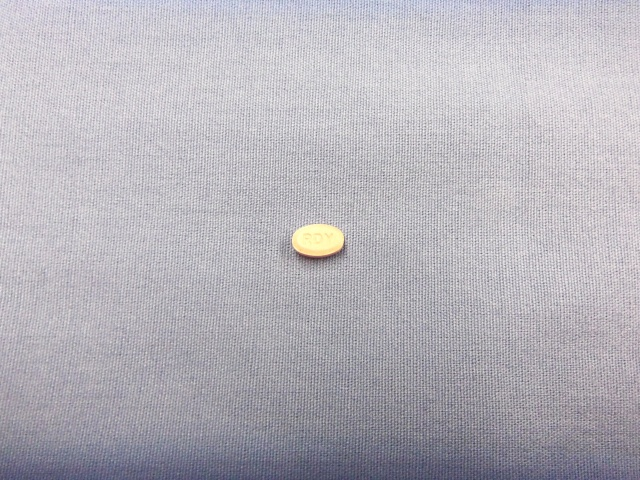D: (313, 232, 324, 246)
R: (302, 232, 312, 247)
Y: (324, 231, 334, 246)
